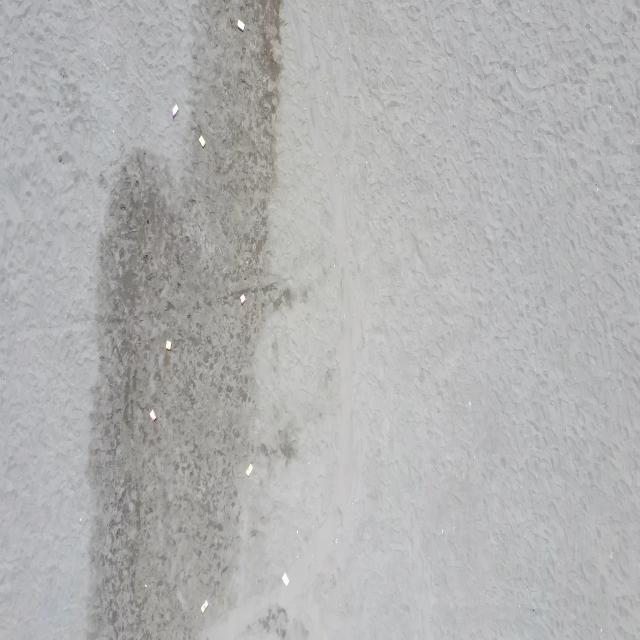retort-pouch: (281, 571, 290, 588), (236, 17, 245, 33), (172, 104, 180, 120), (198, 134, 206, 150), (200, 600, 209, 614), (150, 408, 158, 422), (246, 462, 253, 478), (239, 292, 246, 307), (165, 338, 172, 352)
